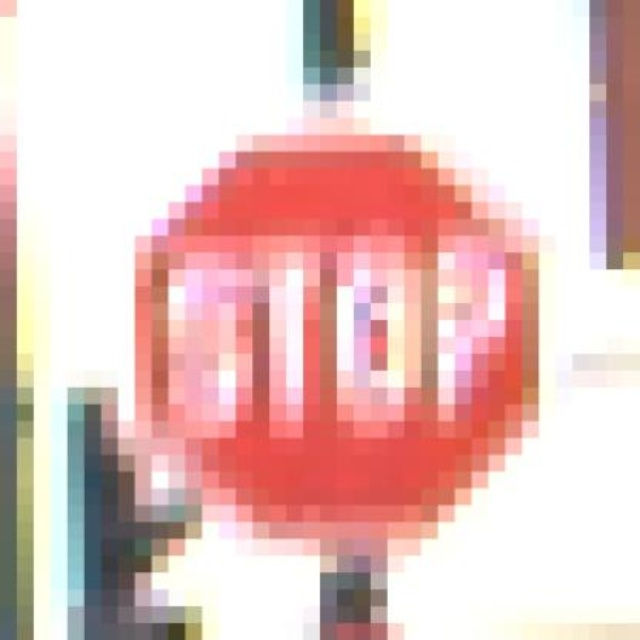Dừng lại: (127, 125, 547, 540)
